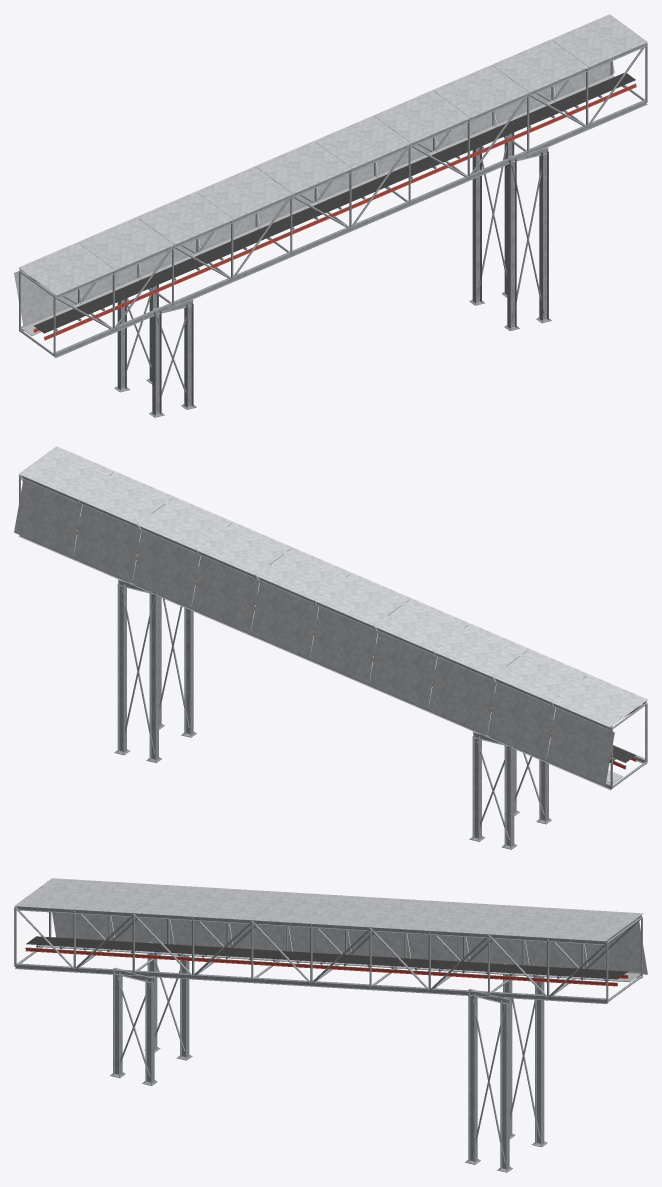
File: conveyor-galleries-and-trestles.glb
3 renders of one model, top to bottom at view 1: azimuth 30°, elevation 25°; view 2: azimuth 150°, elevation 25°; view 3: azimuth 330°, elevation 25°, orthographic.
Visible parts, largest first — view 1: Roof&SideSheeting, Trestles, TrussChords, Belt(context), Verticals&Diagonals, ConveyorStringers, Walkway; view 2: Roof&SideSheeting, Trestles, TrussChords, Verticals&Diagonals; view 3: Roof&SideSheeting, Trestles, Verticals&Diagonals, TrussChords, Belt(context), ConveyorStringers, Walkway.
Boxes of the visible parts, x1,y1,x2,y2 form: Roof&SideSheeting: (14, 14, 647, 325); Trestles: (114, 129, 551, 417); TrussChords: (19, 40, 647, 357); Belt(context): (34, 73, 635, 333); Verticals&Diagonals: (19, 43, 647, 356); ConveyorStringers: (33, 83, 636, 340); Walkway: (21, 75, 614, 336); Roof&SideSheeting: (14, 446, 647, 785); Trestles: (114, 579, 551, 849); TrussChords: (19, 473, 647, 789); Verticals&Diagonals: (19, 475, 647, 788); Roof&SideSheeting: (14, 878, 647, 974); Trestles: (110, 942, 547, 1172); Verticals&Diagonals: (14, 907, 642, 1002); TrussChords: (14, 906, 642, 1003); Belt(context): (26, 936, 627, 979); ConveyorStringers: (25, 947, 628, 986); Walkway: (39, 945, 640, 982).
Bounding box in the file's own units: 29.99 × 12.14 × 3.5.
6 materials, 5 textured.
